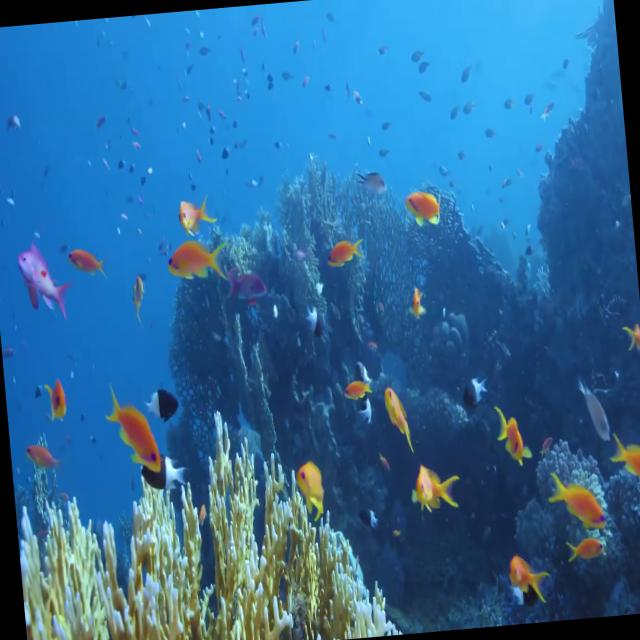fish: (106, 385, 160, 474), (16, 242, 73, 314), (547, 468, 608, 532), (410, 460, 464, 518), (166, 239, 228, 286), (495, 408, 531, 468), (64, 243, 109, 282), (609, 431, 640, 486), (404, 186, 442, 230), (324, 235, 366, 272)
